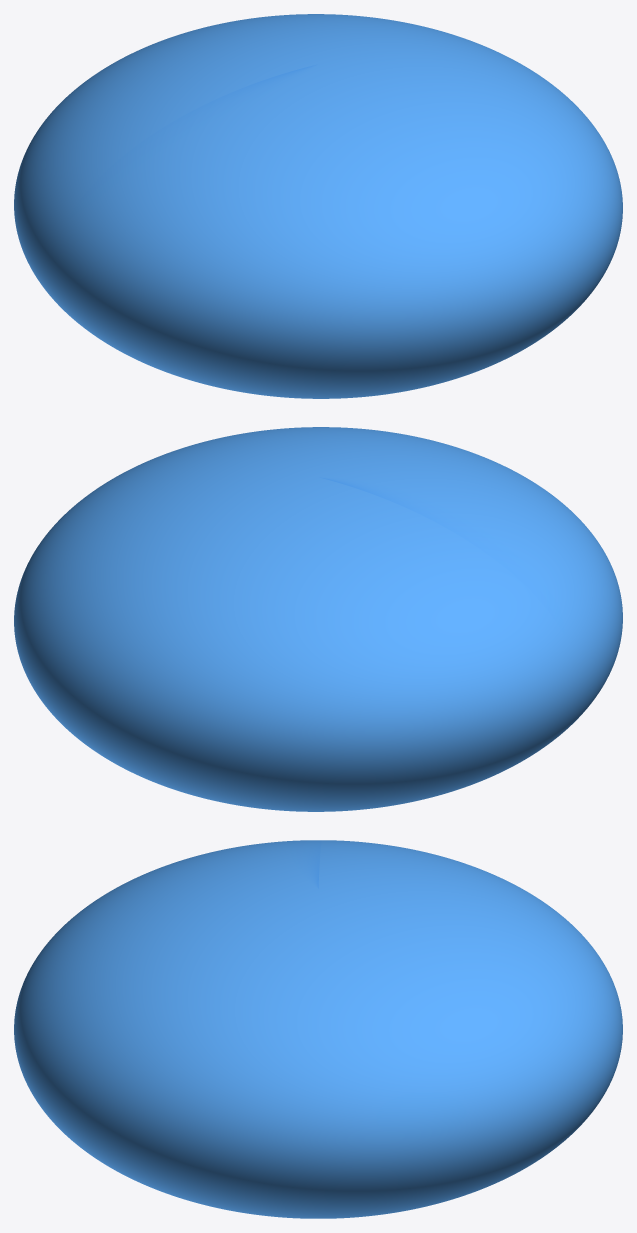
File: skybase.glb
The picture shows the model from 3 angles, top to bottom: view 1: azimuth 30°, elevation 25°; view 2: azimuth 150°, elevation 25°; view 3: azimuth 270°, elevation 25°; orthographic projection.
Visible parts, largest first — view 1: Sphere; view 2: Sphere; view 3: Sphere.
Boxes of the visible parts, bbox=[...] form: Sphere: bbox=[14, 14, 622, 398]; Sphere: bbox=[14, 427, 622, 811]; Sphere: bbox=[14, 840, 622, 1218].
Size of the model in its own units: 3358 by 1737 by 3408.
Materials: 1 (1 with a texture image).
